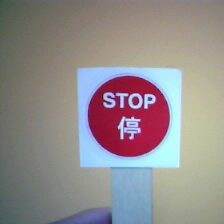stop: (76, 63, 182, 169)
